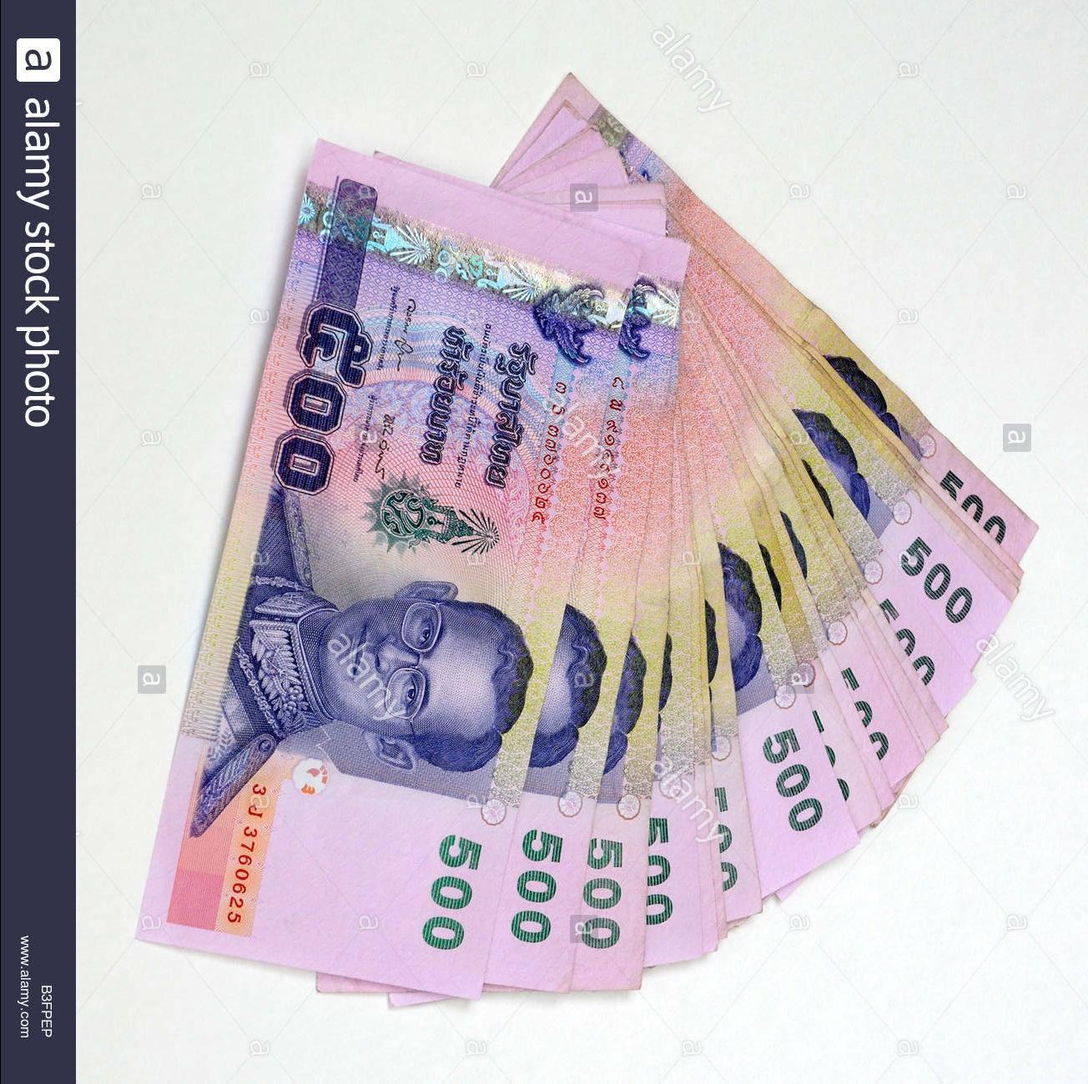500BahtTai: (148, 168, 642, 983)
